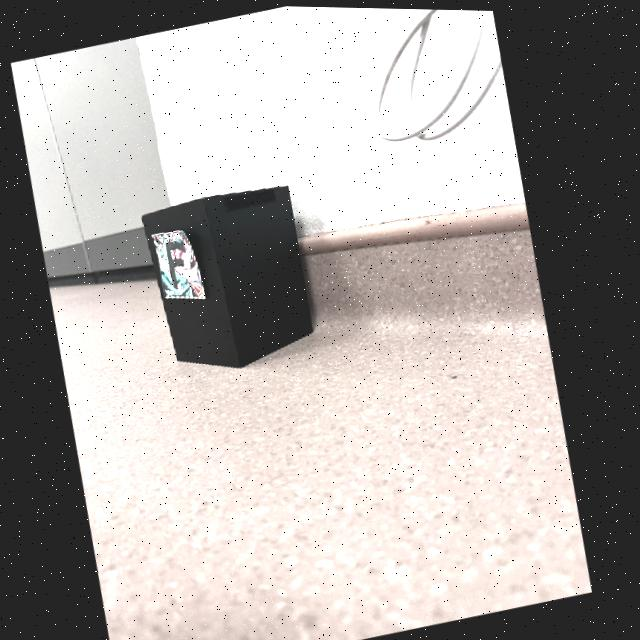F: (169, 241, 188, 287)
